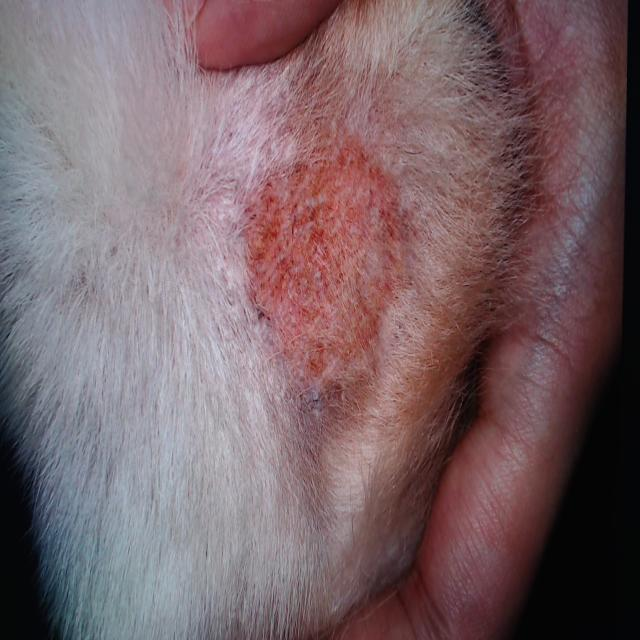ringworm: (235, 93, 426, 435)
